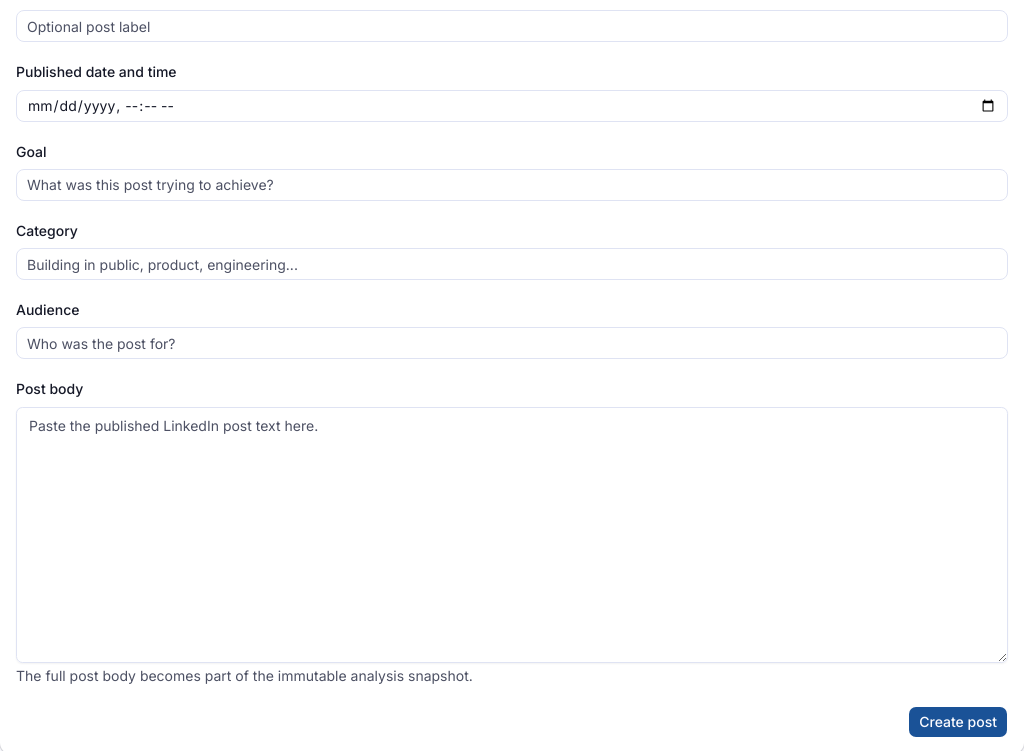
Test case: PostEditorForm › shows validation errors for missing required fields
(page scrolled)
Click the button "Create post".
click(958, 722)  # box [908,706,1008,738]
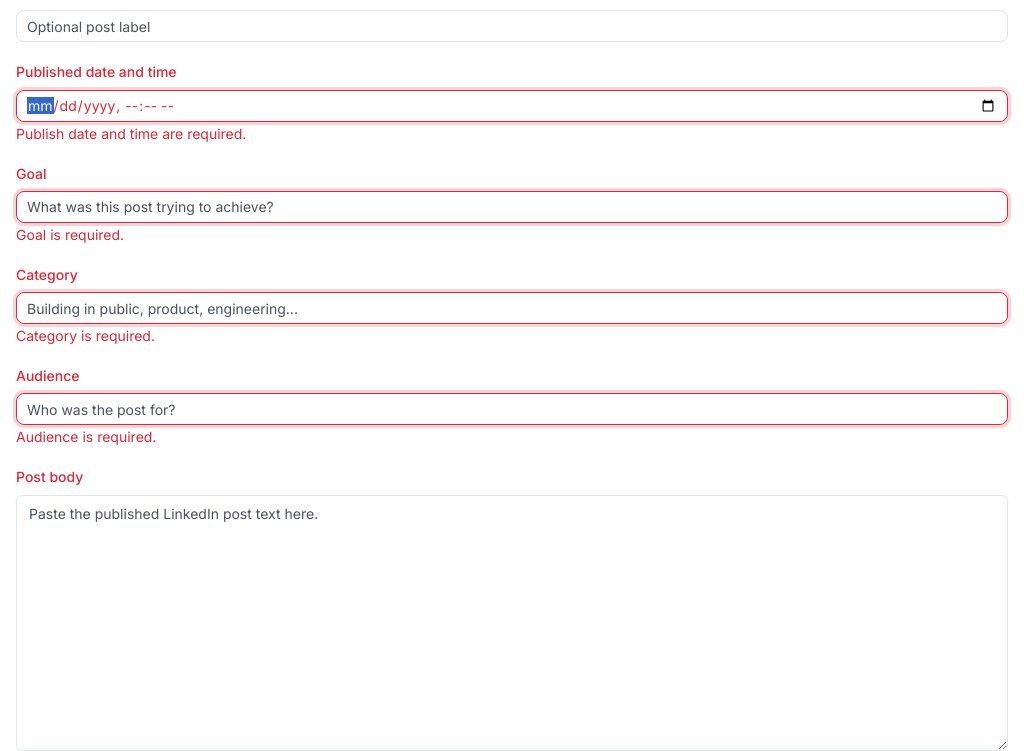
Now the text "Publish date and time are required." is shown, box [16,124,246,142]
Now the text "Goal is required." is shown, box [16,226,124,243]
